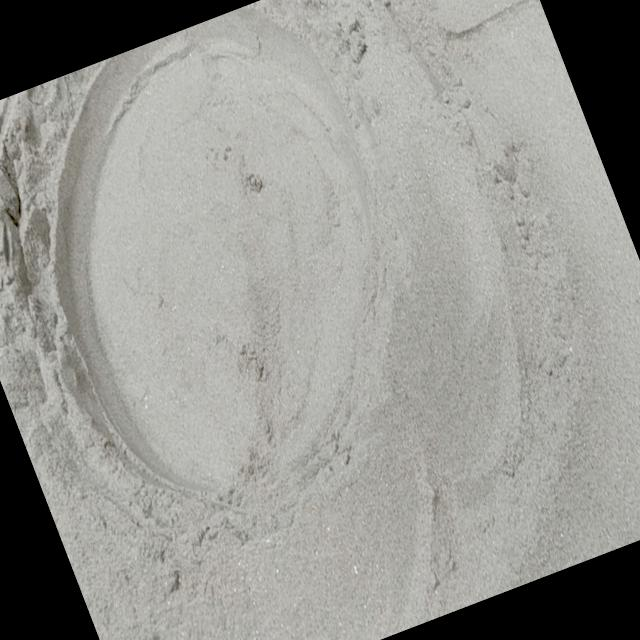C40: (55, 6, 373, 494)
